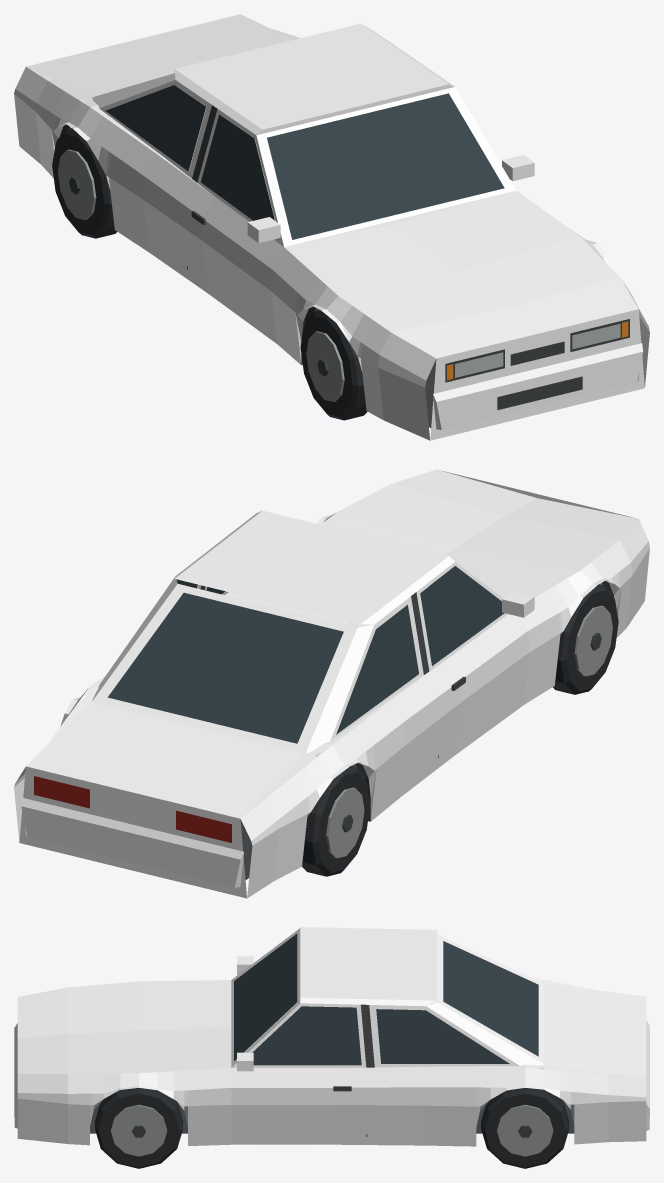
File: mizuchi_chidori_sr.glb
3 views of the same model, one above another, from view 1: azimuth 30°, elevation 25°; view 2: azimuth 150°, elevation 25°; view 3: azimuth 270°, elevation 25° (orthographic). The views are drawn at different scales.
Parts seen in each view (by area): view 1: mizuchi_chidori_sr; view 2: mizuchi_chidori_sr; view 3: mizuchi_chidori_sr.
Boxes of the visible parts, x1,y1,x2,y2 form: mizuchi_chidori_sr: (14, 14, 649, 440); mizuchi_chidori_sr: (14, 469, 649, 898); mizuchi_chidori_sr: (14, 927, 649, 1168).
Bounding box in the file's own units: 1.76 × 1.23 × 4.51.
8 materials, 1 textured.
